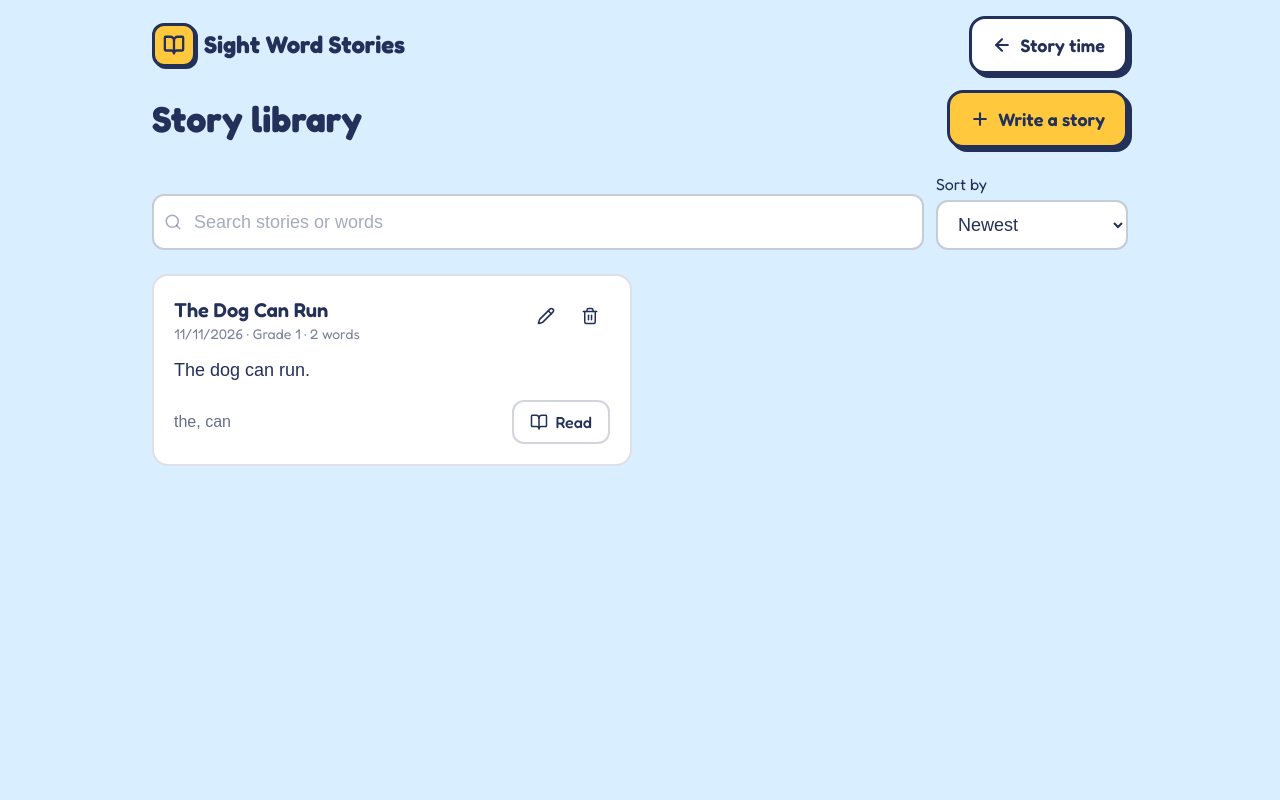
Story library › deletes a story after asking
The image size is (1280, 800).
Click the button named "Delete The Dog Can Run".
click(590, 316)  # box [570, 296, 610, 336]
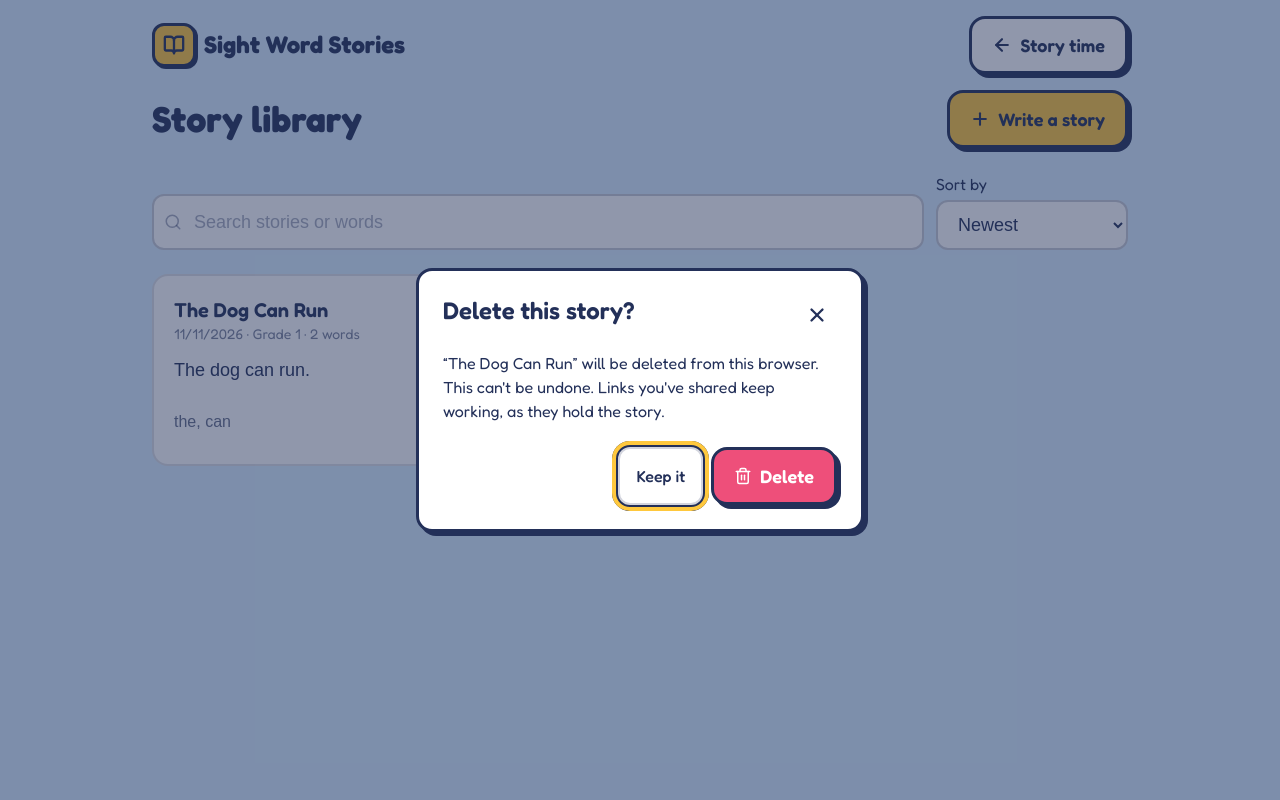
Check: the text "Links you.ve shared keep working" is shown, box [443, 353, 819, 421]
Click the button "Delete".
click(774, 476)  # box [711, 447, 837, 505]
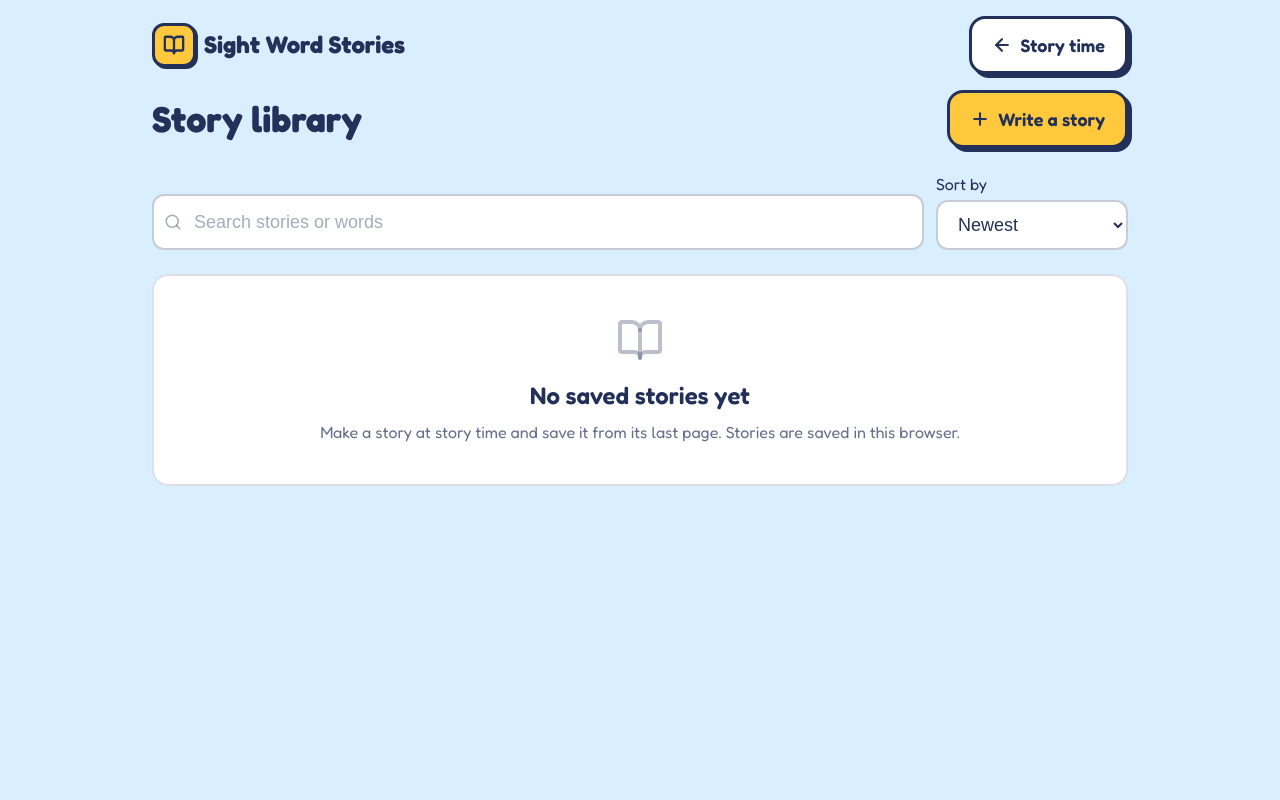
Check: the heading "No saved stories yet" is shown, box [530, 381, 750, 410]
